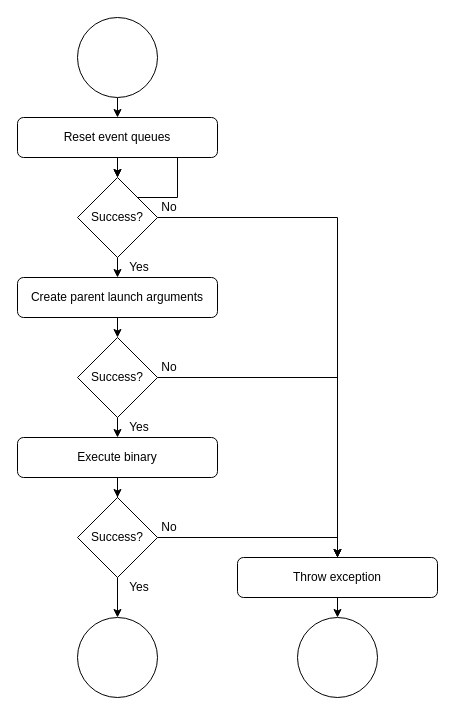
This 455x715 diagram has some shape labels left out. Each missing label, with the box of its shape:
Launch failed: (296, 616, 378, 698)
Launch finished: (76, 616, 158, 698)
Launch started: (76, 16, 158, 98)
